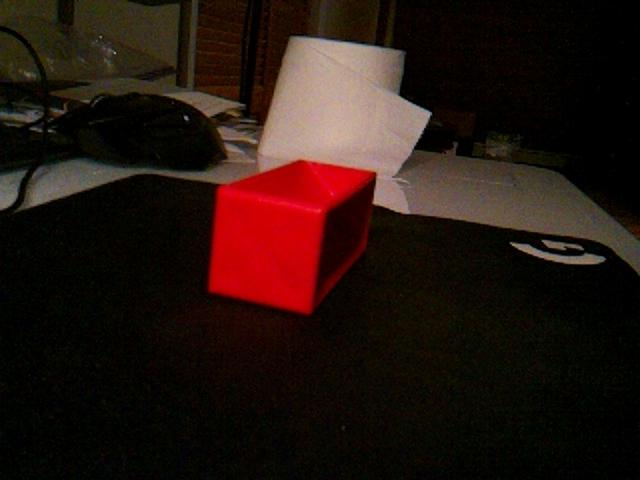red: (206, 158, 378, 316)
